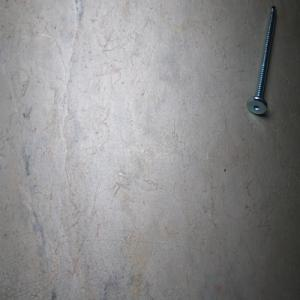Bolt: (246, 4, 276, 115)
